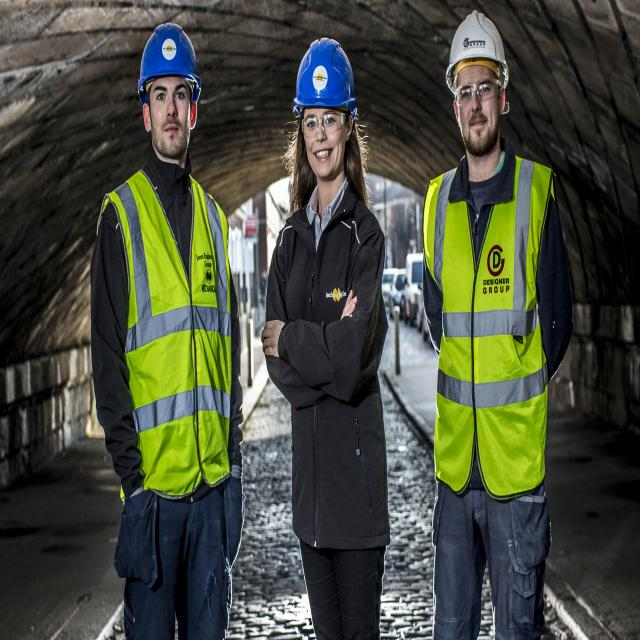Reflective-Jacket: (100, 165, 239, 502), (423, 156, 558, 496)
Safety-Helmet: (136, 18, 203, 97), (292, 32, 357, 113), (445, 8, 510, 87)
